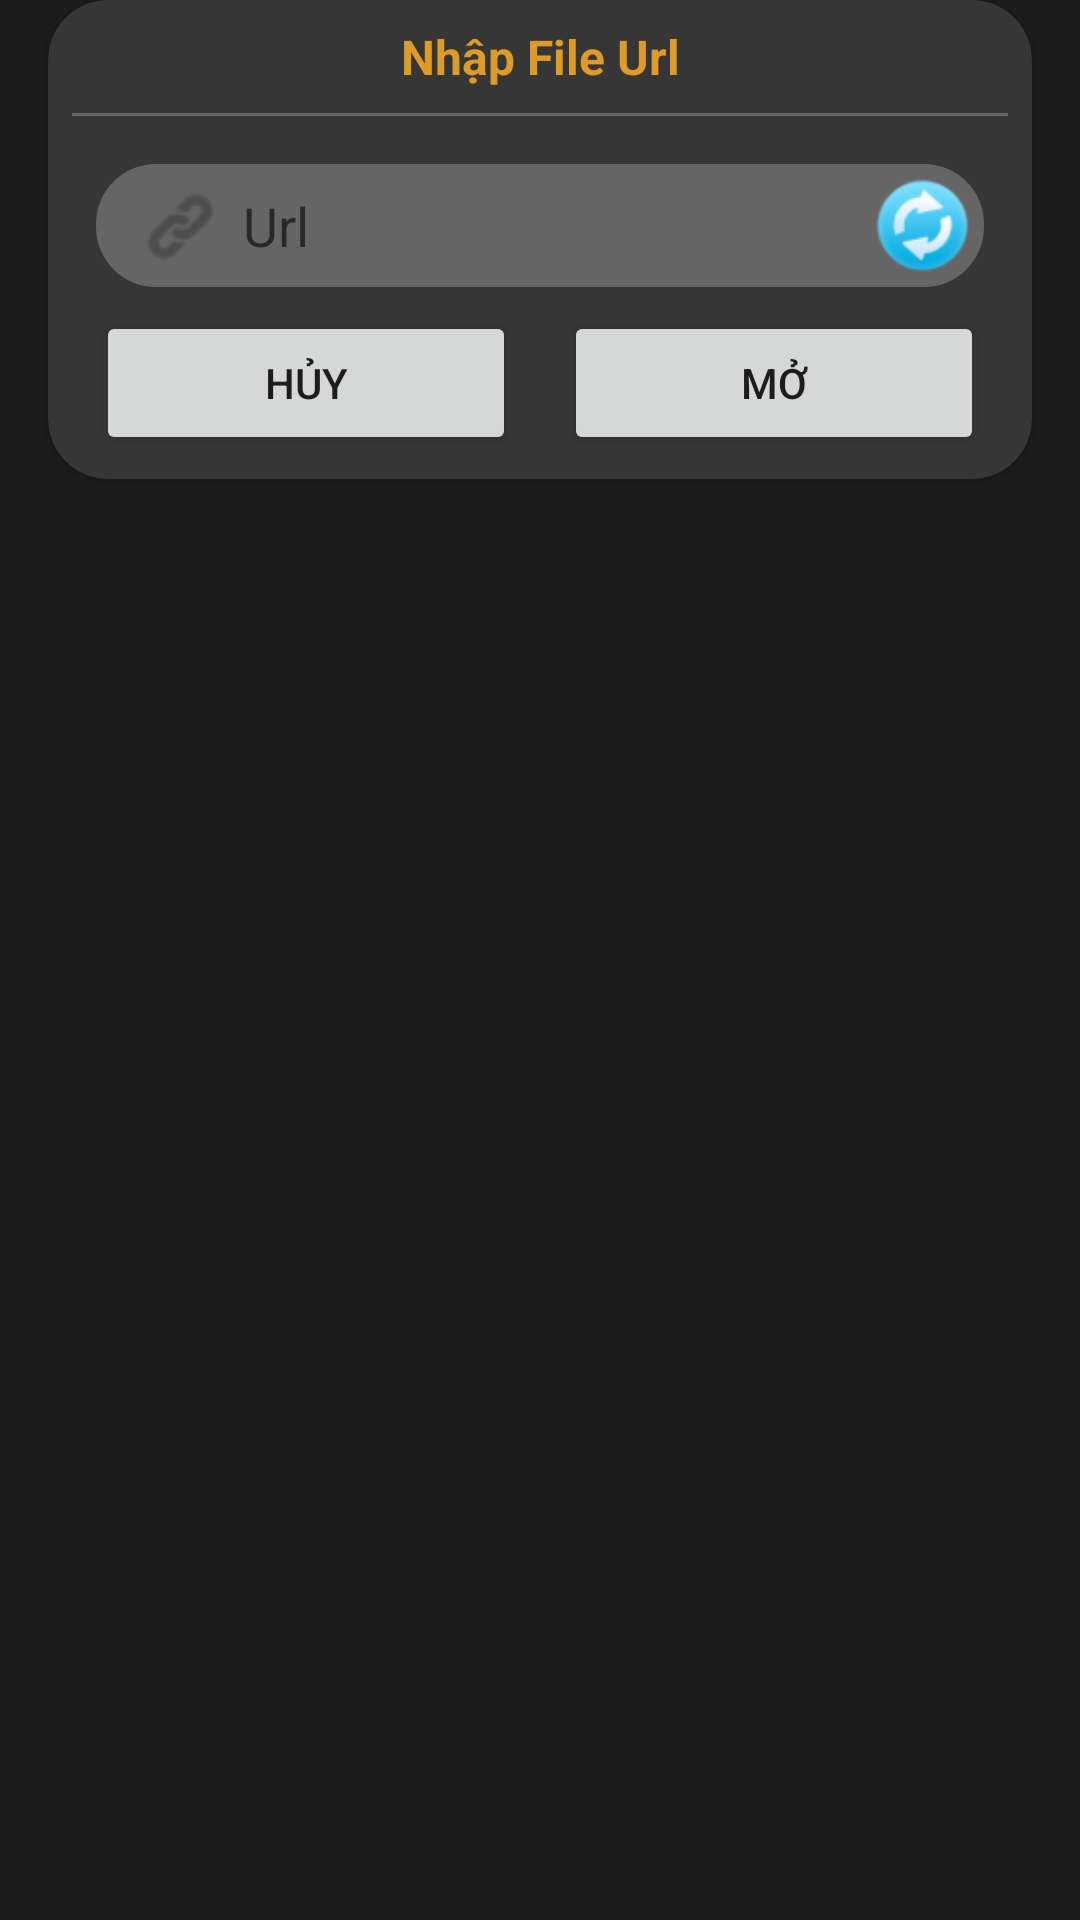

Named icons in this screenshot (1080x1920) and their bounding boxes, BBox(x1, y1, x2, y2):
swap: BBox(861, 164, 984, 287)
